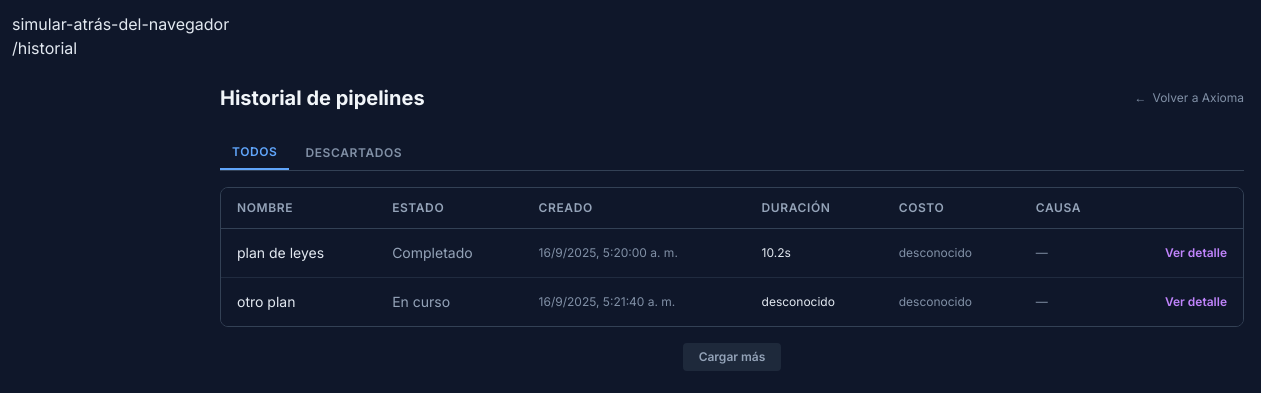
Historial › con has_more, "Cargar más" pide la página siguiente y agrega filas
The width and height of the screenshot is (1261, 393).
Check: the text "plan de leyes" is shown, box [221, 228, 376, 278]
Click the button "Cargar más" at (732, 357), box [683, 343, 781, 371]
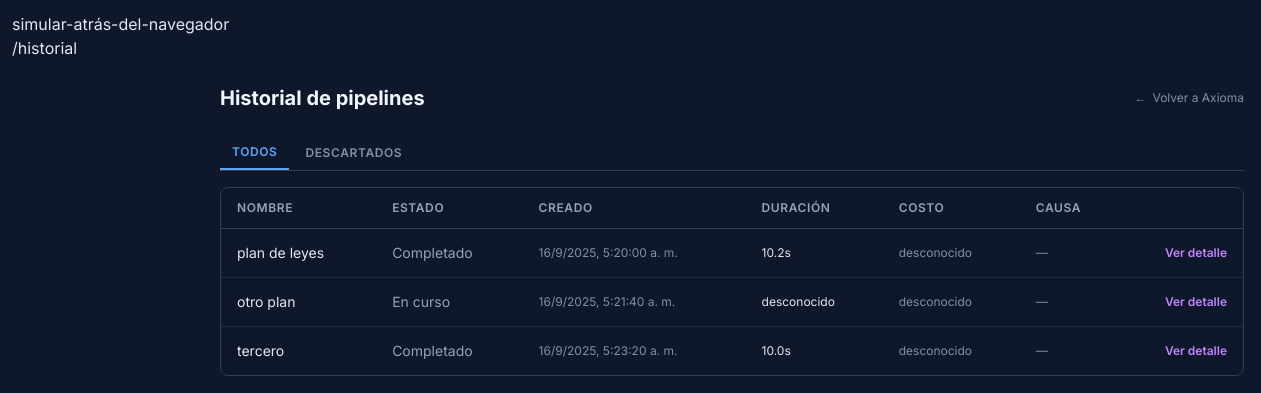
Check: the text "plan de leyes" is shown, box [221, 228, 376, 278]
Check: the text "tercero" is shown, box [221, 326, 376, 375]
